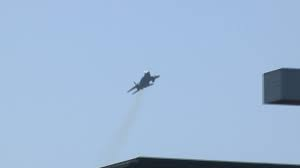plane: (126, 71, 159, 95)
